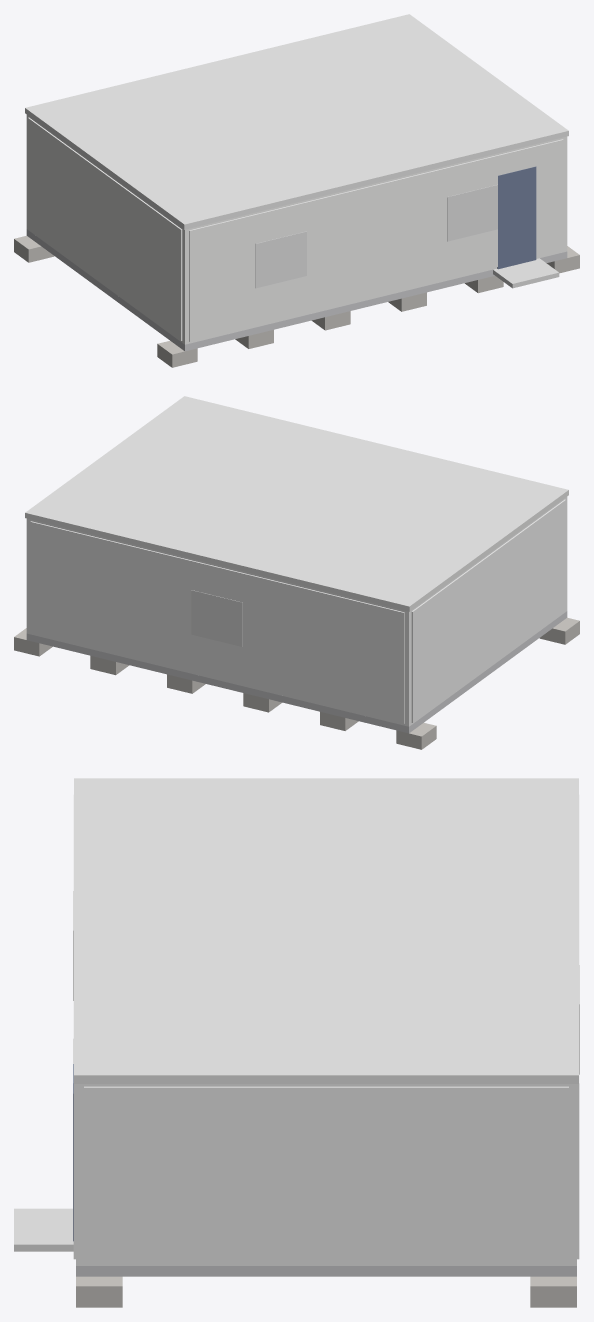
Rendered from Studio-30-Village-LOD0.glb.
The picture shows the model from 3 angles, top to bottom: view 1: azimuth 30°, elevation 25°; view 2: azimuth 150°, elevation 25°; view 3: azimuth 270°, elevation 25°; orthographic projection. The views are drawn at different scales.
Visible parts, largest first — view 1: RoofMain, ExteriorPanelsStandard, WindowsStandard, ExteriorShell, FoundationBlocks, EntryDoor, BaseFrame, AccessibilityVillage; view 2: RoofMain, ExteriorPanelsStandard, BaseFrame, ExteriorShell, FoundationBlocks, WindowsStandard; view 3: RoofMain, ExteriorPanelsStandard, ExteriorShell, BaseFrame, FoundationBlocks, AccessibilityVillage.
Part boxes in pixels (x1,y1,x2,y2): RoofMain: (25, 14, 568, 229); ExteriorPanelsStandard: (28, 117, 563, 341); WindowsStandard: (255, 184, 497, 288); ExteriorShell: (26, 115, 567, 344); FoundationBlocks: (14, 235, 579, 367); EntryDoor: (497, 166, 536, 269); BaseFrame: (26, 229, 567, 351); AccessibilityVillage: (493, 258, 559, 288); RoofMain: (25, 396, 568, 611); ExteriorPanelsStandard: (30, 499, 565, 723); BaseFrame: (26, 611, 567, 733); ExteriorShell: (26, 497, 567, 726); FoundationBlocks: (14, 617, 579, 749); WindowsStandard: (191, 590, 242, 646); RoofMain: (74, 778, 578, 1083); ExteriorPanelsStandard: (73, 795, 579, 1263); ExteriorShell: (76, 1084, 576, 1265); BaseFrame: (76, 1266, 576, 1276); FoundationBlocks: (76, 1276, 576, 1307); AccessibilityVillage: (14, 1208, 73, 1251).
Bounding box in the file's own units: 9.6 × 3.17 × 7.29.
